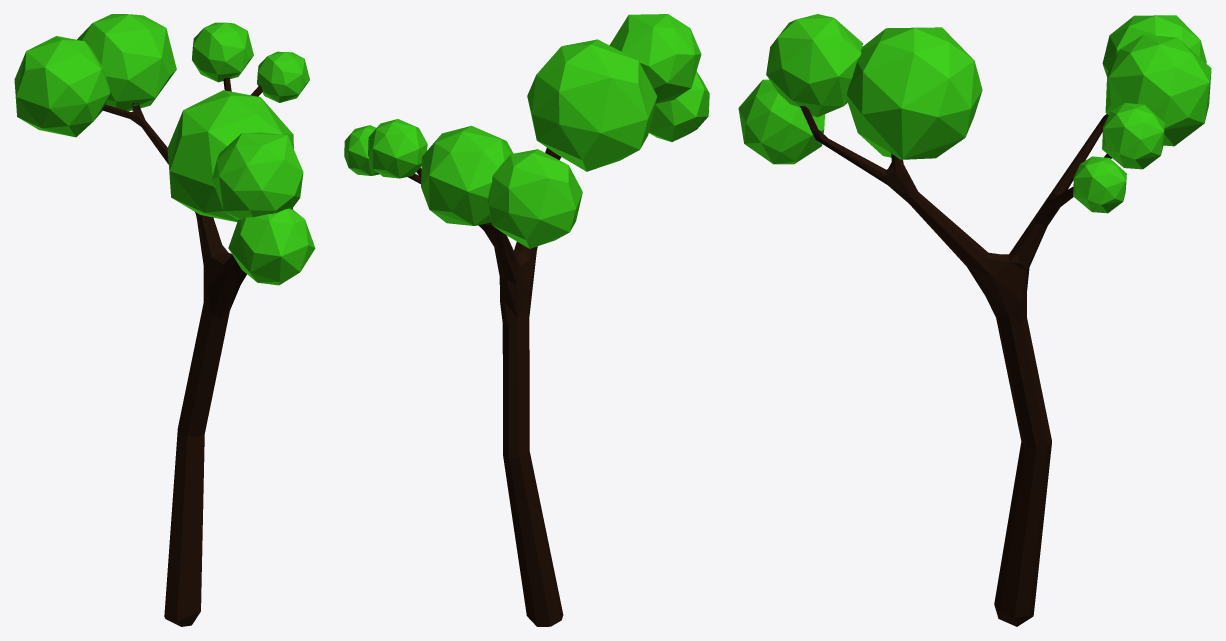
Rendered from lowPolyTree3.obj.
3 views of the same model, side by side, from view 1: azimuth 30°, elevation 25°; view 2: azimuth 150°, elevation 25°; view 3: azimuth 270°, elevation 25° (orthographic). The views are drawn at different scales.
Visible parts, largest first — view 1: Cube.002_Cube.005, Icosphere.015, Icosphere.018, Icosphere.016, Icosphere.019, Icosphere.017, Icosphere.020, Icosphere.021; view 2: Icosphere.015, Cube.002_Cube.005, Icosphere.018, Icosphere.019, Icosphere.016, Icosphere.020, Icosphere.017, Icosphere.021; view 3: Cube.002_Cube.005, Icosphere.015, Icosphere.019, Icosphere.016, Icosphere.017, Icosphere.020, Icosphere.021, Icosphere.018.
Part boxes in pixels (box(x1,y1,x2,y2)): Cube.002_Cube.005: box(102, 77, 292, 626); Icosphere.015: box(167, 90, 293, 222); Icosphere.018: box(14, 36, 109, 137); Icosphere.016: box(212, 132, 303, 219); Icosphere.019: box(77, 14, 176, 111); Icosphere.017: box(228, 208, 315, 285); Icosphere.020: box(192, 22, 253, 82); Icosphere.021: box(257, 51, 309, 102); Icosphere.015: box(527, 39, 657, 171); Cube.002_Cube.005: box(408, 148, 563, 626); Icosphere.018: box(487, 149, 582, 248); Icosphere.019: box(421, 125, 513, 225); Icosphere.016: box(609, 14, 701, 103); Icosphere.020: box(368, 119, 427, 178); Icosphere.017: box(649, 71, 709, 141); Icosphere.021: box(344, 125, 379, 175); Cube.002_Cube.005: box(800, 106, 1111, 626); Icosphere.015: box(846, 27, 982, 159); Icosphere.019: box(1105, 34, 1211, 146); Icosphere.016: box(766, 14, 862, 117); Icosphere.017: box(738, 79, 824, 164); Icosphere.020: box(1102, 103, 1164, 169); Icosphere.021: box(1073, 156, 1126, 213); Icosphere.018: box(1102, 15, 1206, 76).
Bounding box in the file's own units: 1.75 × 3.58 × 2.57.
